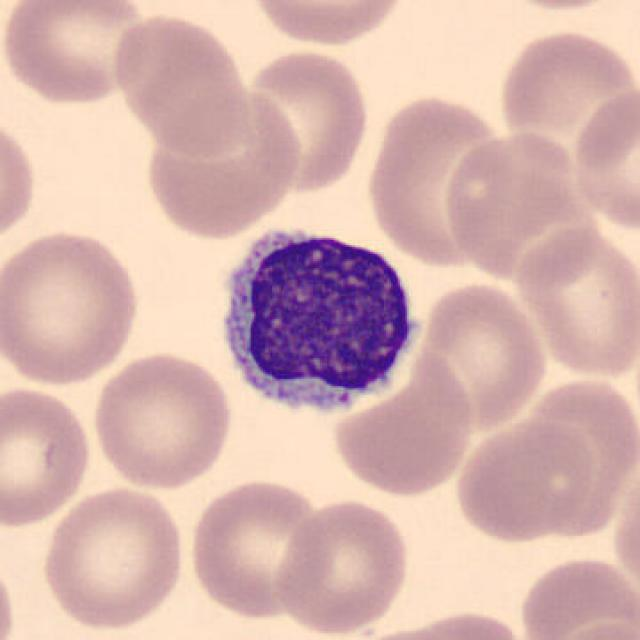Lymphocyte: (206, 215, 428, 430)
RBC: (364, 88, 512, 270), (138, 83, 306, 241), (0, 224, 146, 388), (38, 483, 188, 633), (108, 8, 256, 158), (185, 474, 331, 622), (411, 278, 549, 434), (89, 347, 236, 492), (439, 129, 581, 275), (512, 222, 638, 383), (272, 496, 414, 636), (244, 44, 372, 196), (452, 416, 598, 545), (0, 0, 153, 109), (494, 24, 636, 138), (0, 381, 94, 531), (567, 83, 640, 236), (514, 552, 638, 640), (245, 0, 412, 49), (0, 109, 39, 256), (365, 608, 535, 640), (610, 450, 640, 604), (325, 620, 497, 640), (542, 615, 638, 640), (487, 0, 629, 14), (0, 546, 19, 640)
